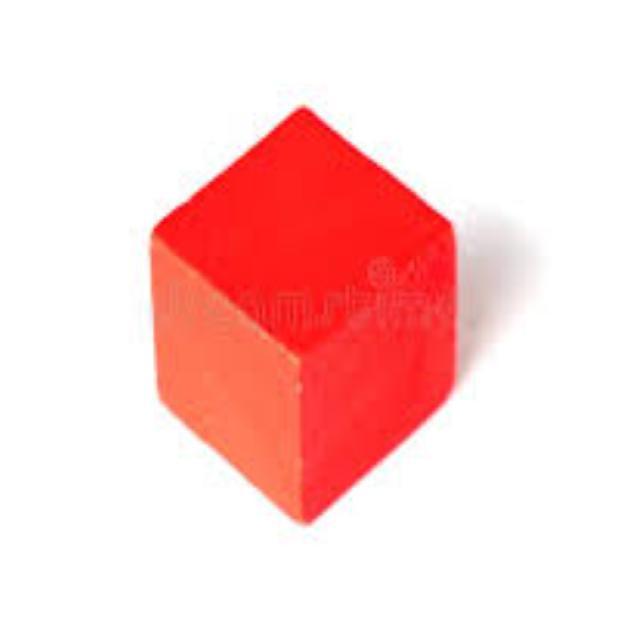red cube: (150, 104, 455, 532)
